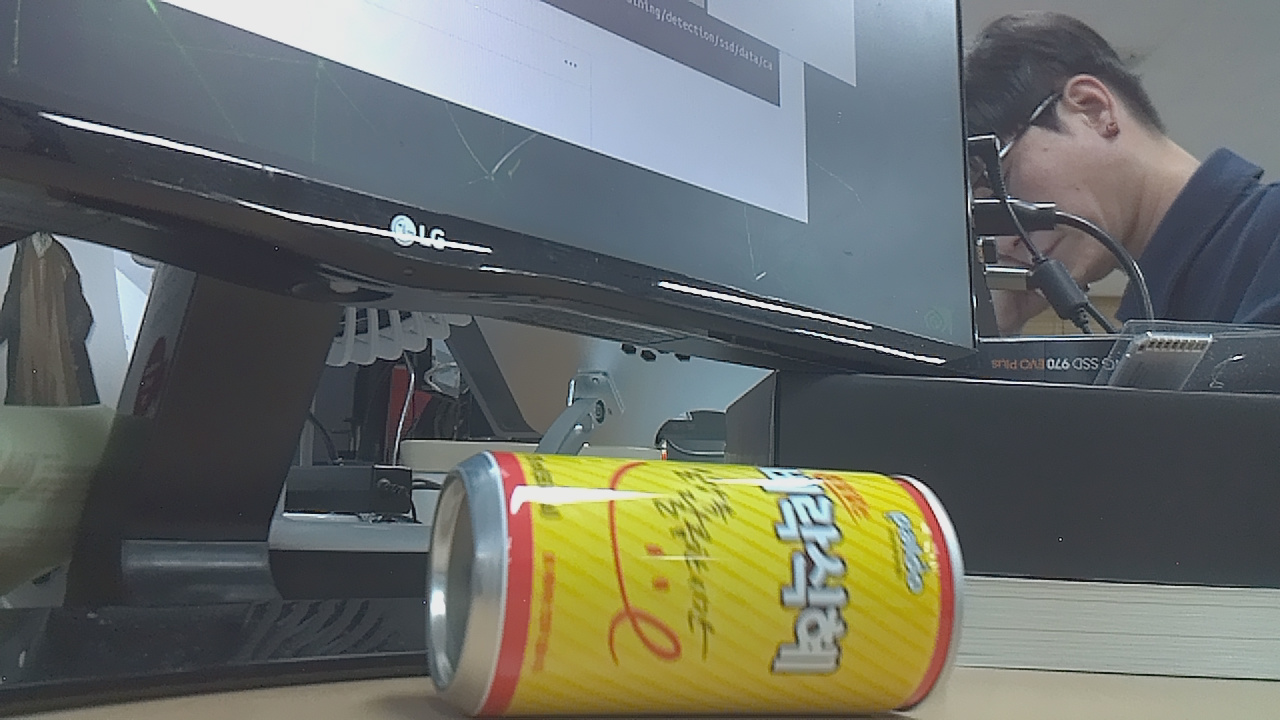paldo shikhye: (406, 450, 983, 720)
